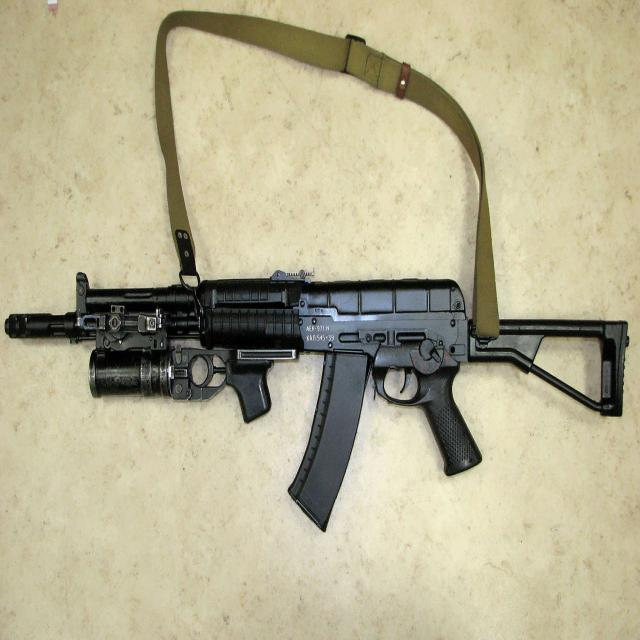firearm: (6, 270, 628, 533)
